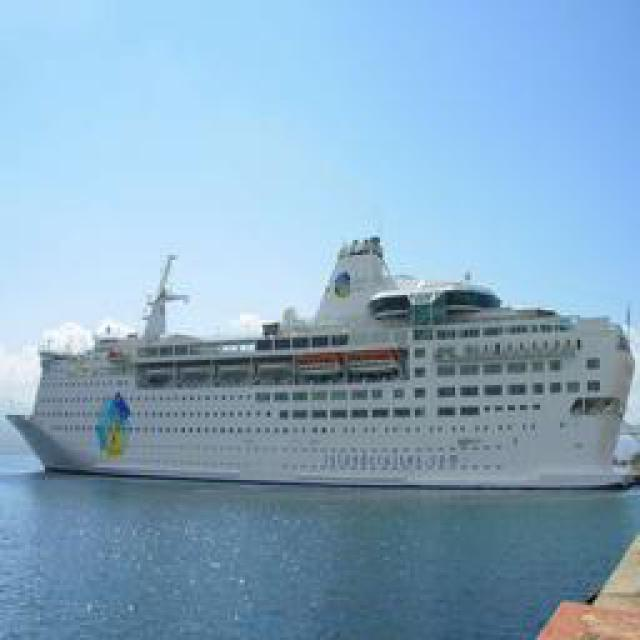Ship: (19, 240, 629, 490)
